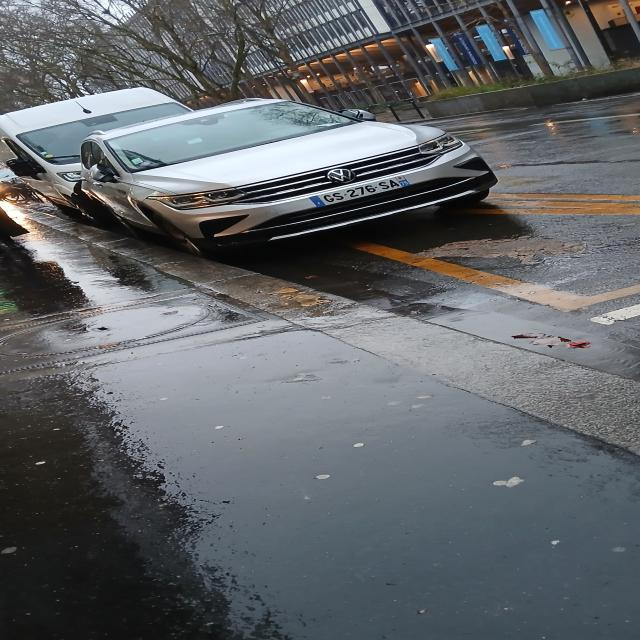EU: (307, 175, 413, 207)
France: (309, 194, 329, 208)
